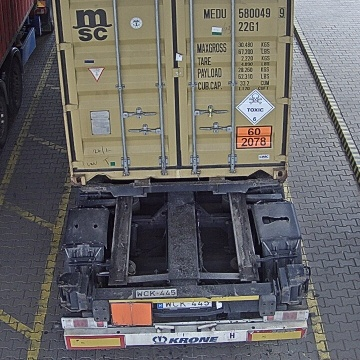serial_id: (204, 7, 285, 18)
